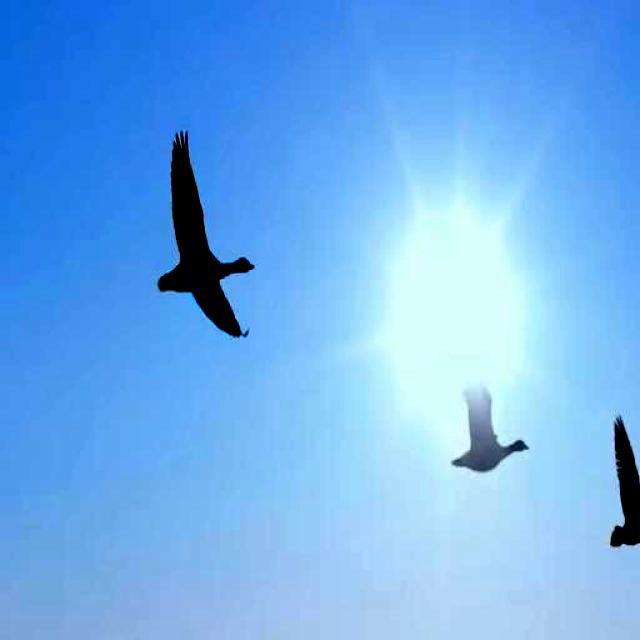airplane: (146, 116, 265, 351), (444, 376, 532, 489), (599, 408, 640, 572)
